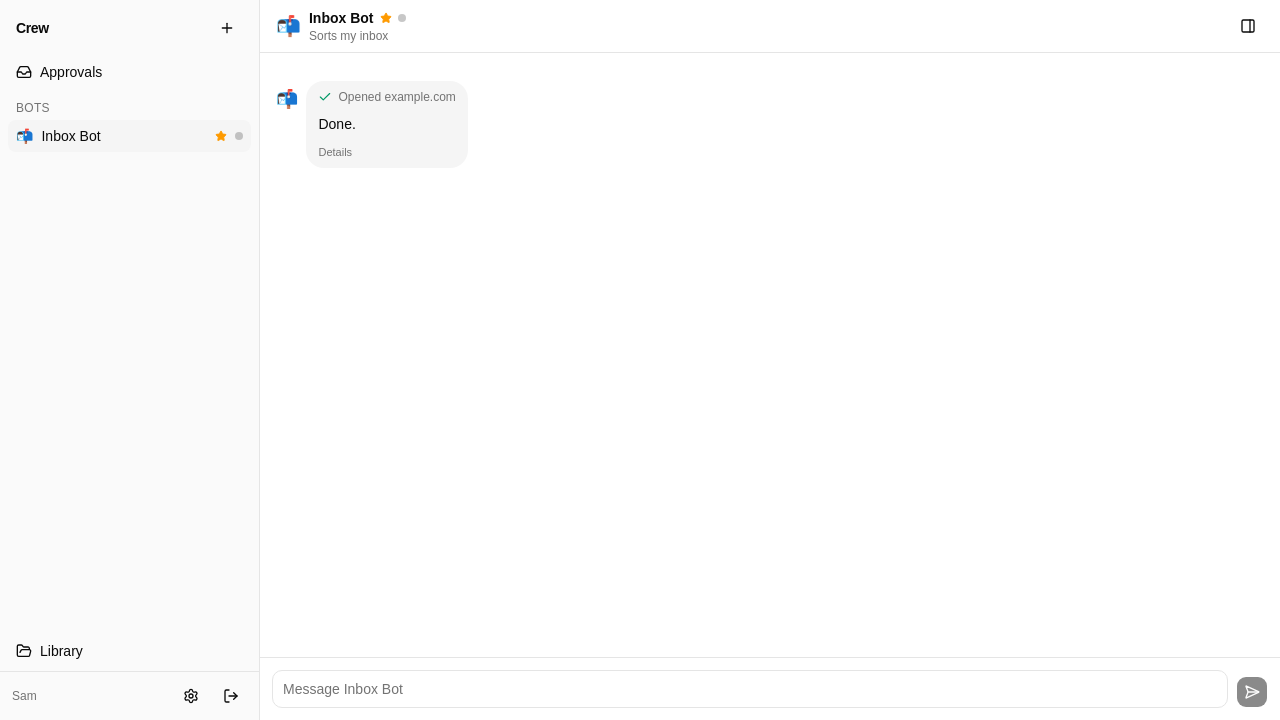
Test: run details show steps, tools, tokens and duration
The image size is (1280, 720).
Click the button "Details" at point(335, 152), box [318,144,352,160]
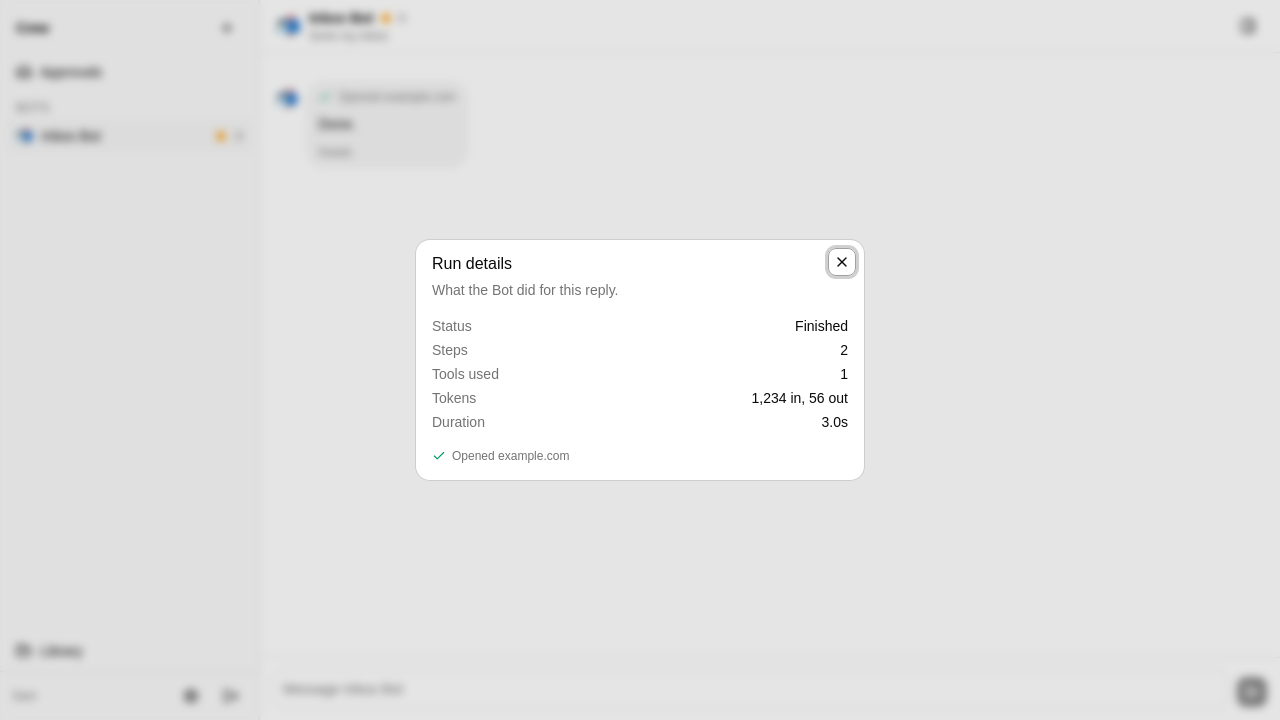
Check: the text "Finished" is shown, box [795,316,848,336]
Check: the text "1,234 in, 56 out" is shown, box [752,388,848,408]
Check: the text "3.0s" is shown, box [822,412,848,432]
